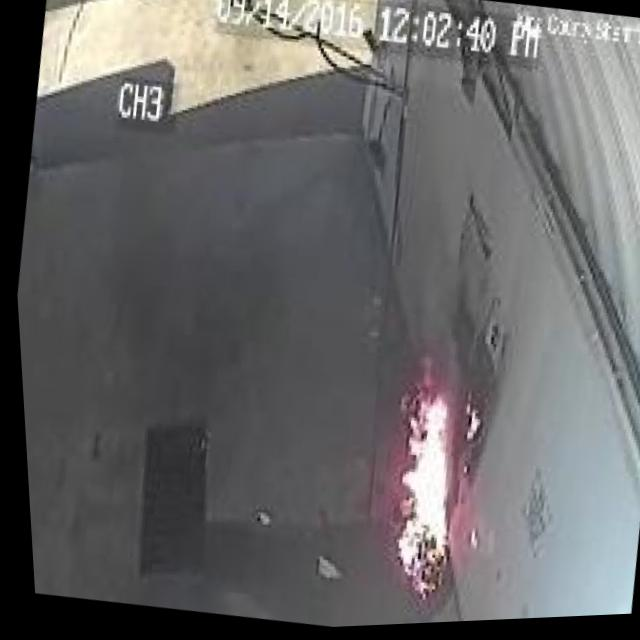fire: (341, 354, 501, 613)
